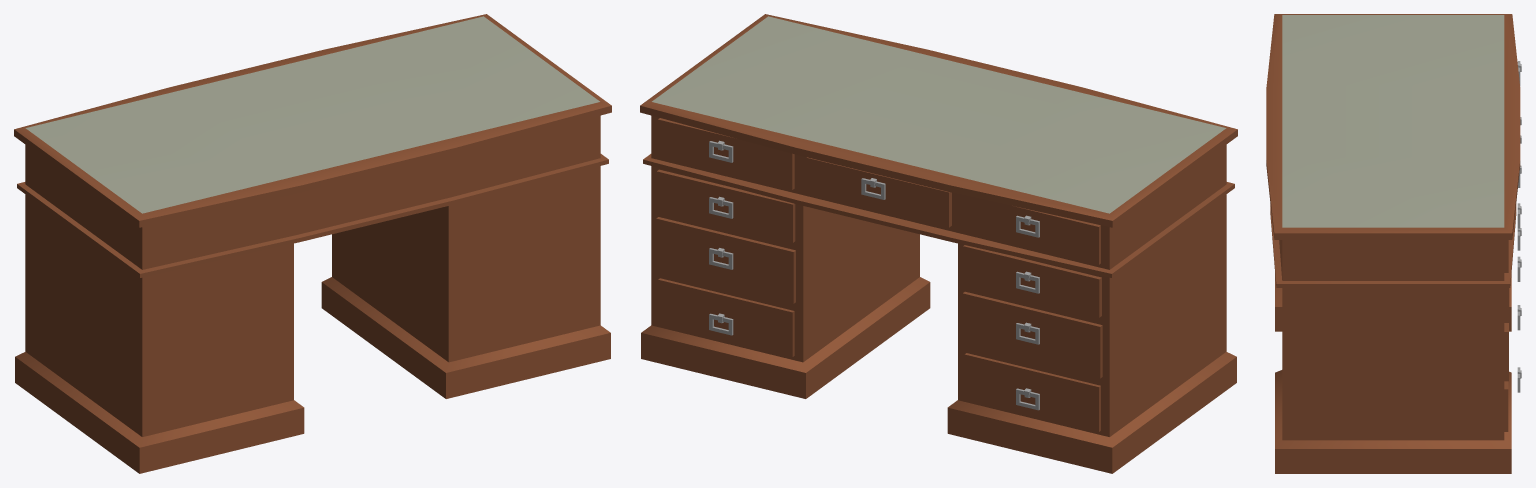
File: Mansion_Desk_Study.fbx
3 renders of one model, left to right at view 1: azimuth 30°, elevation 25°; view 2: azimuth 150°, elevation 25°; view 3: azimuth 270°, elevation 25°, orthographic. The views are drawn at different scales.
Parts seen in each view (by area): view 1: Desk_1; view 2: Desk_1; view 3: Desk_1.
Part boxes in pixels (bbox=[...]): Desk_1: bbox=[14, 14, 611, 473]; Desk_1: bbox=[640, 14, 1237, 473]; Desk_1: bbox=[1266, 14, 1521, 473].
Size of the model in its own units: 198 by 102 by 97.21.
